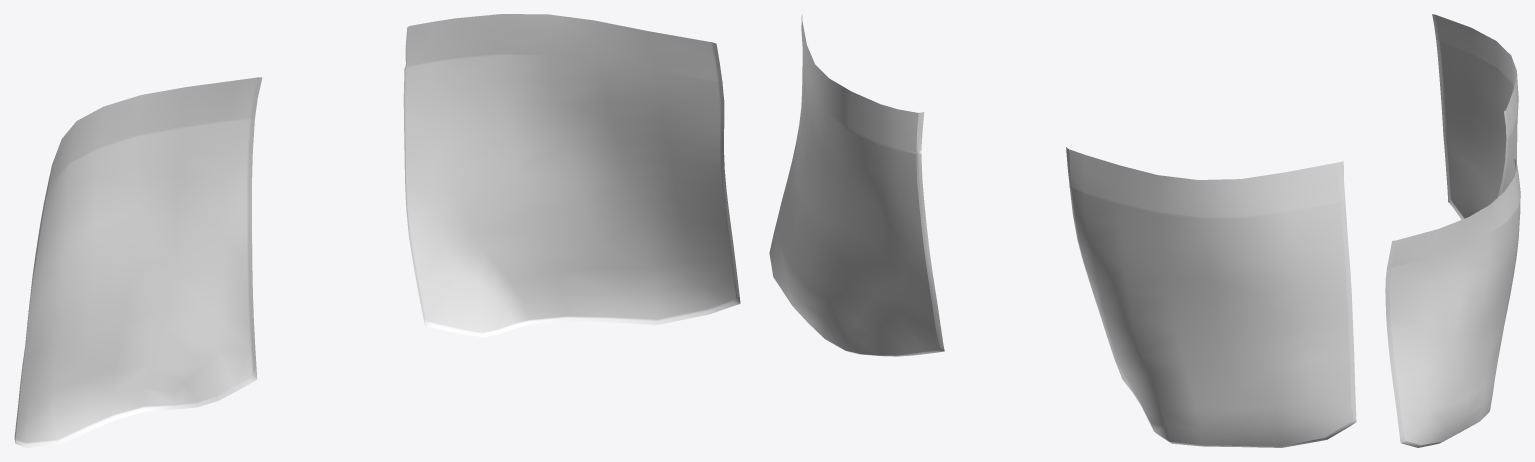
Rendered from Pants_Pocket_BACK.glb.
The picture shows the model from 3 angles, left to right: view 1: azimuth 30°, elevation 25°; view 2: azimuth 150°, elevation 25°; view 3: azimuth 270°, elevation 25°; orthographic projection. The views are drawn at different scales.
Parts seen in each view (by area): view 1: Pants_Pocket_BACK.001; view 2: Pants_Pocket_BACK.001, Pants_Main8.001; view 3: Pants_Pocket_BACK.001, Pants_Main8.001.
Part boxes in pixels (<box>): Pants_Pocket_BACK.001: <box>15,14,740,447</box>; Pants_Pocket_BACK.001: <box>769,14,1356,447</box>; Pants_Main8.001: <box>769,25,1353,447</box>; Pants_Pocket_BACK.001: <box>1385,14,1520,447</box>; Pants_Main8.001: <box>1387,102,1520,446</box>.
Bounding box in the file's own units: 0.5845 × 0.255 × 0.14.
Materials: 2 (2 with a texture image).
